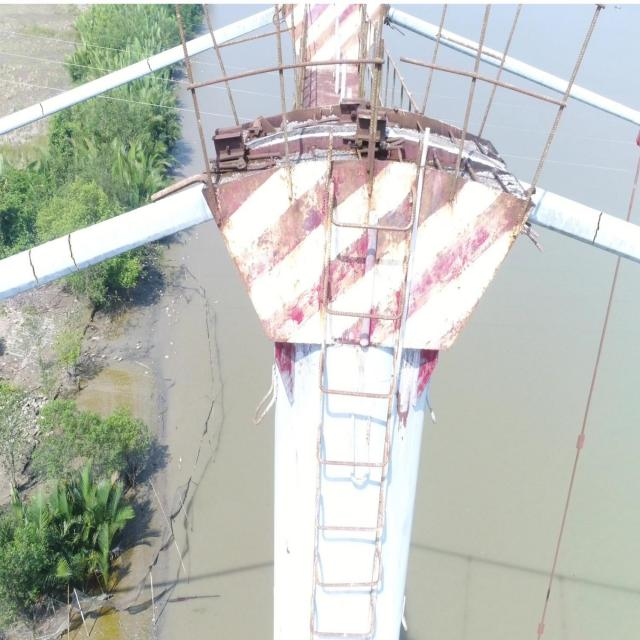crack: (67, 234, 80, 271), (27, 249, 40, 286), (592, 212, 603, 246), (146, 58, 152, 72), (39, 102, 44, 116)
